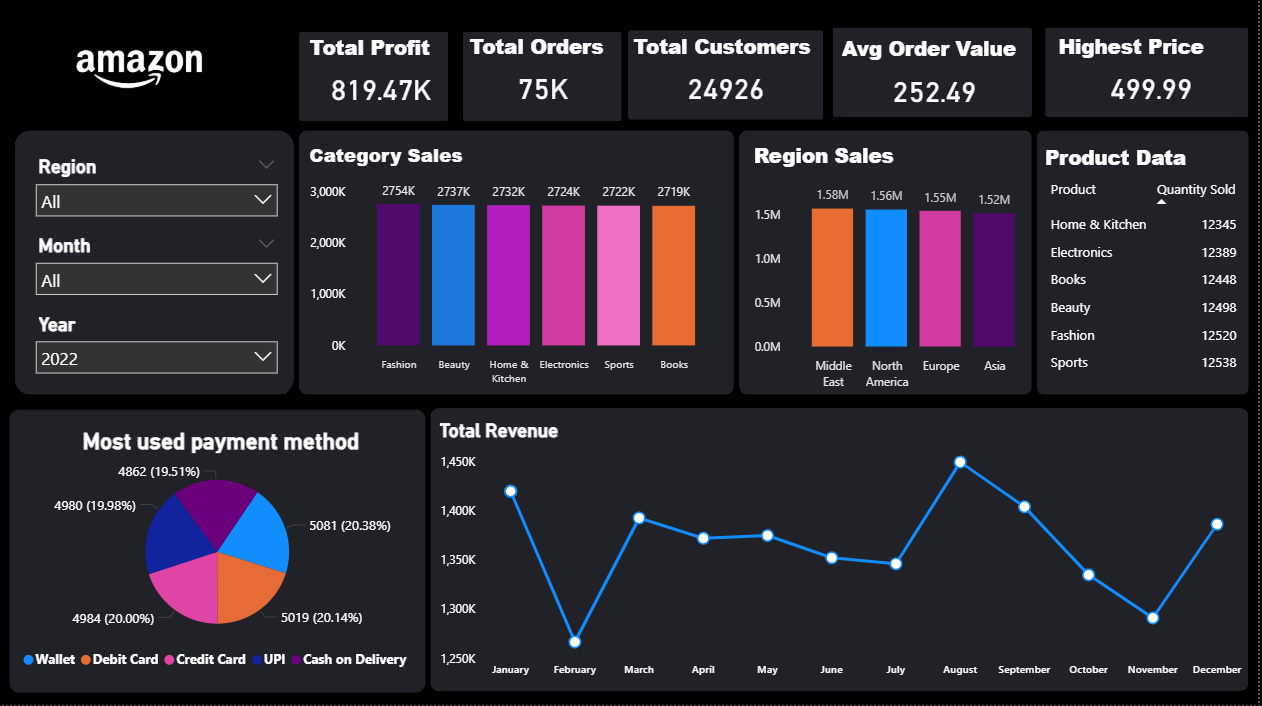

The dashboard page shown, as its layout file describes it:
{"tool":"powerbi","page":{"name":"Amazon_Sales","canvas":[1280,720],"ordinal":0},"visuals":[{"type":"image","box":[36.8,21.5,208.6,98.2],"z":0},{"type":"pieChart","title":"Most used payment method","fields":{"Category":["cleaned_dataset.payment_method"],"Y":["CountNonNull(cleaned_dataset.payment_method)"]},"box":[9.6,418.9,423,288],"z":1000},{"type":"shape","box":[9.6,119.9,289.4,299],"z":2000},{"type":"slicer","fields":{"Values":["cleaned_dataset.order_date.Variation.Date Hierarchy.Month"]},"box":[26.2,226,265.9,106.1],"z":3000},{"type":"slicer","fields":{"Values":["cleaned_dataset.customer_region"]},"box":[26.2,146.1,265.9,79.9],"z":4000},{"type":"shape","box":[432.7,402.3,837.7,318.3],"z":5000},{"type":"shape","box":[299,19.3,157.1,121.3],"z":6000},{"type":"shape","box":[299,119.9,447.8,299],"z":7000},{"type":"lineChart","title":"Total Revenue","fields":{"Category":["cleaned_dataset.order_date.Variation.Date Hierarchy.Month"],"Y":["Sum(cleaned_dataset.total_revenue)"]},"box":[442.3,428.5,828.1,272.8],"z":8000},{"type":"columnChart","title":"Category Sales ","fields":{"Category":["cleaned_dataset.product_category"],"Y":["Sum(cleaned_dataset.total_revenue)"]},"box":[310,146.1,425.8,256.3],"z":9000},{"type":"shape","box":[746.8,119.9,303.1,299],"z":10000},{"type":"columnChart","title":"Region Sales","fields":{"Category":["cleaned_dataset.customer_region"],"Y":["Sum(cleaned_dataset.review_count)"]},"box":[762,146.1,299,260.4],"z":11000},{"type":"slicer","fields":{"Values":["cleaned_dataset.order_date.Variation.Date Hierarchy.Year"]},"box":[26.2,305.9,265.9,96.5],"z":12000},{"type":"shape","box":[1049.9,119.9,220.5,299],"z":13000},{"type":"tableEx","title":"Product Data","fields":{"Values":["cleaned_dataset.product_category","Sum(cleaned_dataset.quantity_sold)"]},"box":[1058.2,147.4,212.2,246.6],"z":14000},{"type":"card","title":"Total Profit","fields":{"Values":["Sum(cleaned_dataset.profit)"]},"box":[310,35.8,155.7,84],"z":14001},{"type":"shape","box":[465.7,19.3,166.7,121.3],"z":14003},{"type":"card","title":"Total Orders","fields":{"Values":["Sum(cleaned_dataset.quantity_sold)"]},"box":[472.6,34.4,159.8,84],"z":14005},{"type":"shape","box":[633.8,17.9,203.9,121.3],"z":14006},{"type":"card","title":"Total Customers","fields":{"Values":["CountNonNull(cleaned_dataset.order_id)"]},"box":[639.3,34.4,198.4,84],"z":14007},{"type":"shape","box":[841.9,15.2,208.1,121.3],"z":14008},{"type":"shape","box":[1058.2,15.2,212.2,121.3],"z":14009},{"type":"card","title":"Avg Order Value","fields":{"Values":["Avg(cleaned_dataset.price)"]},"box":[851.5,37.2,198.4,84],"z":14010},{"type":"card","title":"Highest Price","fields":{"Values":["Max(cleaned_dataset.price)"]},"box":[1072,34.4,198.4,84],"z":14011}]}

Visuals, with their boxes in screenshot pixels (x1, y1, x2, y2), scaled from the page's 1280x720 canvas onto the 1262x706 screenshot:
image: <bbox>36, 21, 242, 117</bbox>
"Most used payment method" pieChart: <bbox>9, 411, 427, 693</bbox>
shape: <bbox>9, 118, 295, 411</bbox>
slicer - cleaned_dataset.order_date.Variation.Date Hierarchy.Month: <bbox>26, 222, 288, 326</bbox>
slicer - cleaned_dataset.customer_region: <bbox>26, 143, 288, 222</bbox>
shape: <bbox>427, 394, 1253, 705</bbox>
shape: <bbox>295, 19, 450, 138</bbox>
shape: <bbox>295, 118, 736, 411</bbox>
"Total Revenue" lineChart: <bbox>436, 420, 1253, 688</bbox>
"Category Sales " columnChart: <bbox>306, 143, 725, 395</bbox>
shape: <bbox>736, 118, 1035, 411</bbox>
"Region Sales" columnChart: <bbox>751, 143, 1046, 399</bbox>
slicer - cleaned_dataset.order_date.Variation.Date Hierarchy.Year: <bbox>26, 300, 288, 395</bbox>
shape: <bbox>1035, 118, 1253, 411</bbox>
"Product Data" tableEx: <bbox>1043, 145, 1253, 386</bbox>
"Total Profit" card: <bbox>306, 35, 459, 117</bbox>
shape: <bbox>459, 19, 624, 138</bbox>
"Total Orders" card: <bbox>466, 34, 624, 116</bbox>
shape: <bbox>625, 18, 826, 136</bbox>
"Total Customers" card: <bbox>630, 34, 826, 116</bbox>
shape: <bbox>830, 15, 1035, 134</bbox>
shape: <bbox>1043, 15, 1253, 134</bbox>
"Avg Order Value" card: <bbox>840, 36, 1035, 119</bbox>
"Highest Price" card: <bbox>1057, 34, 1253, 116</bbox>
